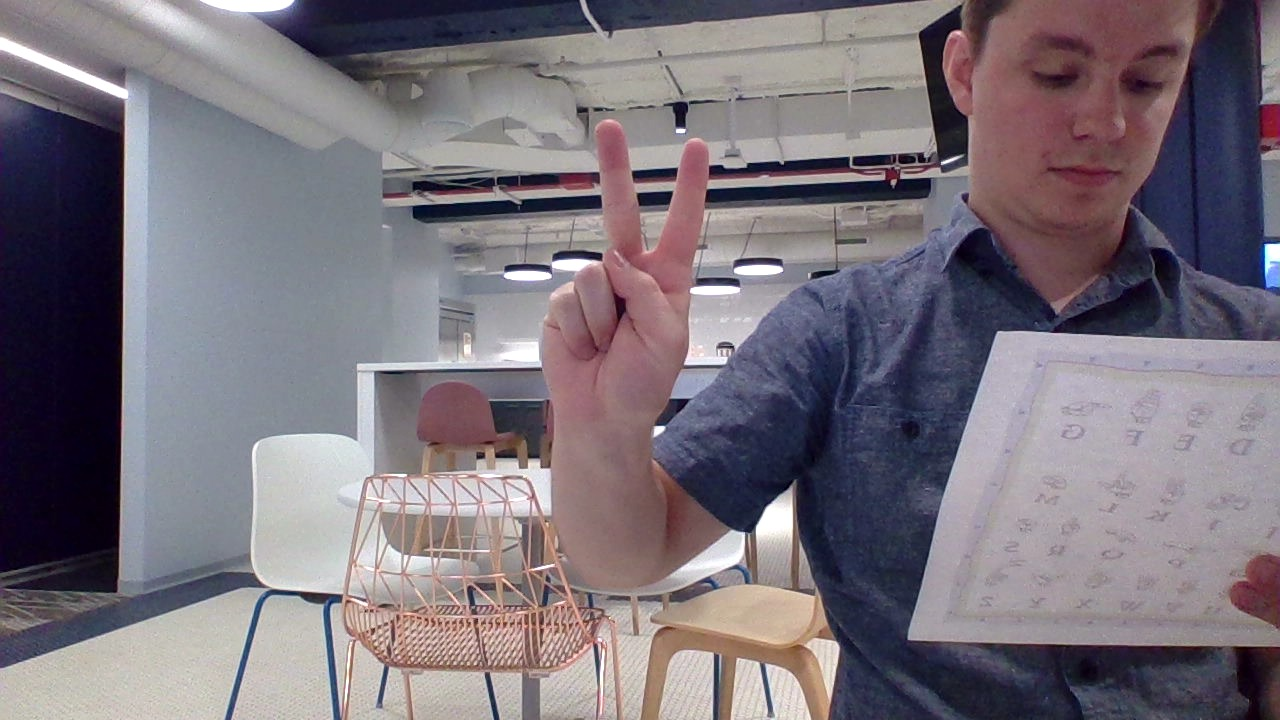v: (517, 107, 739, 454)
